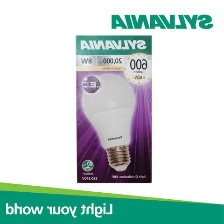book: (72, 33, 156, 185)
